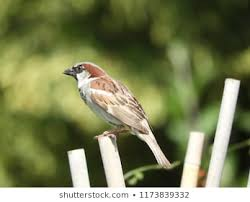home_sparrow: (55, 57, 188, 168)
